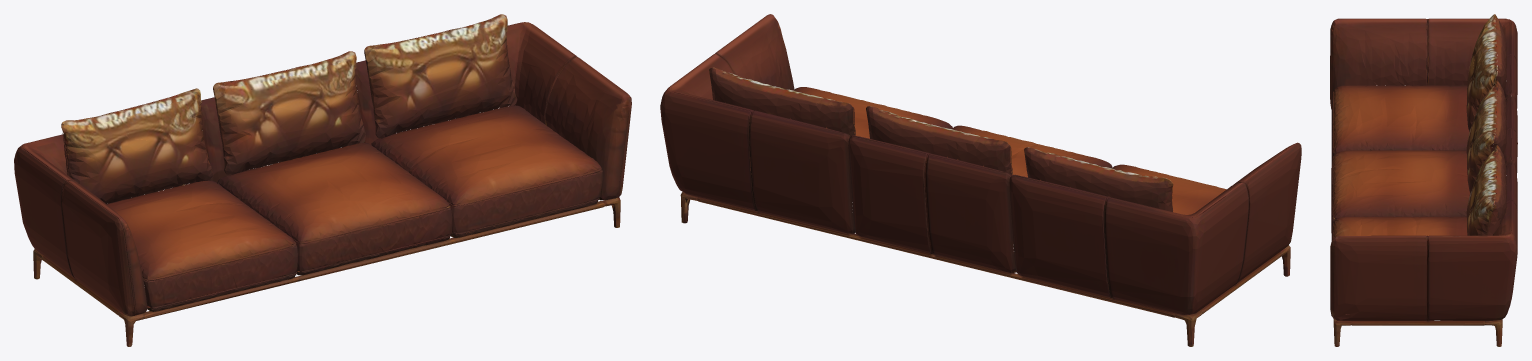
File: edited_mesh.glb
The picture shows the model from 3 angles, left to right: view 1: azimuth 30°, elevation 25°; view 2: azimuth 150°, elevation 25°; view 3: azimuth 270°, elevation 25°; orthographic projection. The views are drawn at different scales.
Visible parts, largest first — view 1: solid_001_wire; view 2: solid_001_wire; view 3: solid_001_wire.
Part boxes in pixels (x1,y1,x2,y2): solid_001_wire: [14, 14, 631, 346]; solid_001_wire: [660, 14, 1301, 346]; solid_001_wire: [1330, 14, 1517, 346].
Bounding box in the file's own units: 2 × 0.5632 × 0.7137.
Materials: 1 (1 with a texture image).
